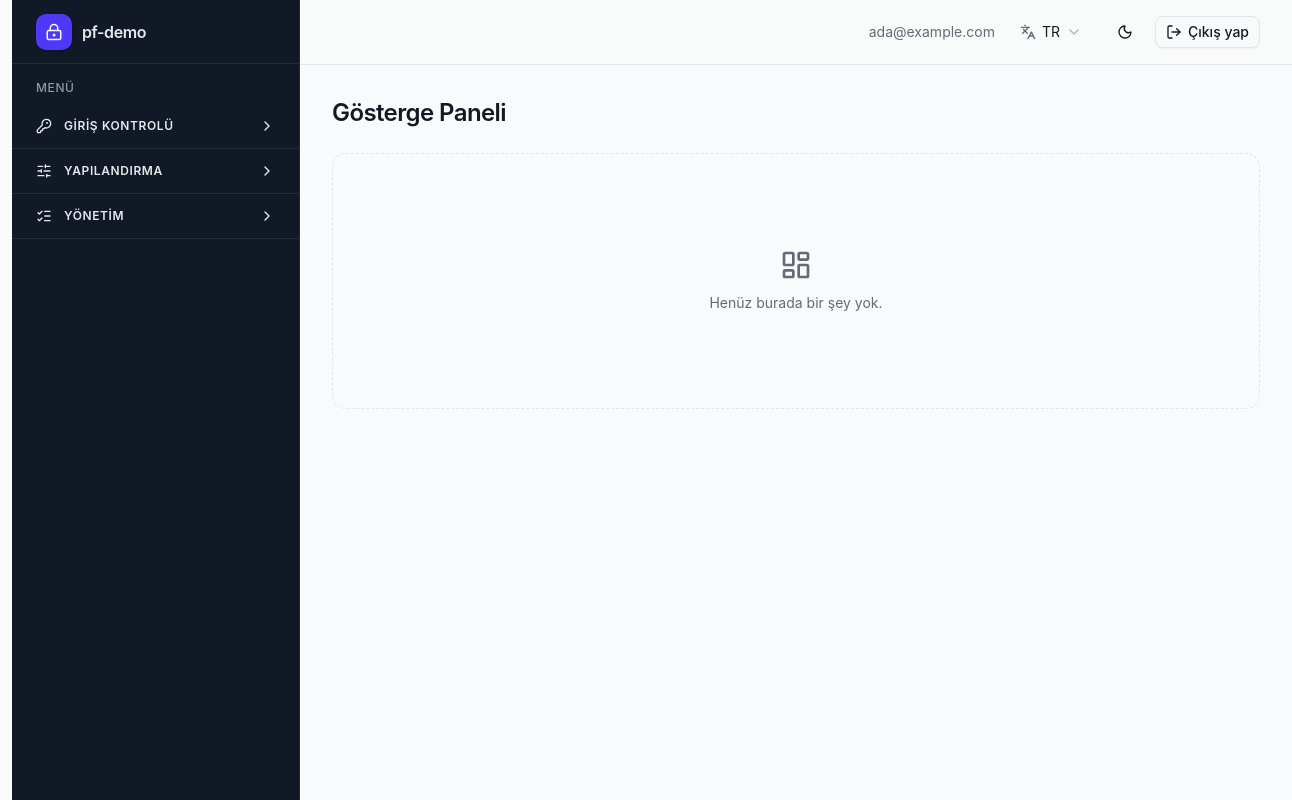
App › switches the dashboard to English and remembers it for the next visit
Click the dropdown named "Dil".
click(1051, 32)  # box [1007, 16, 1095, 48]
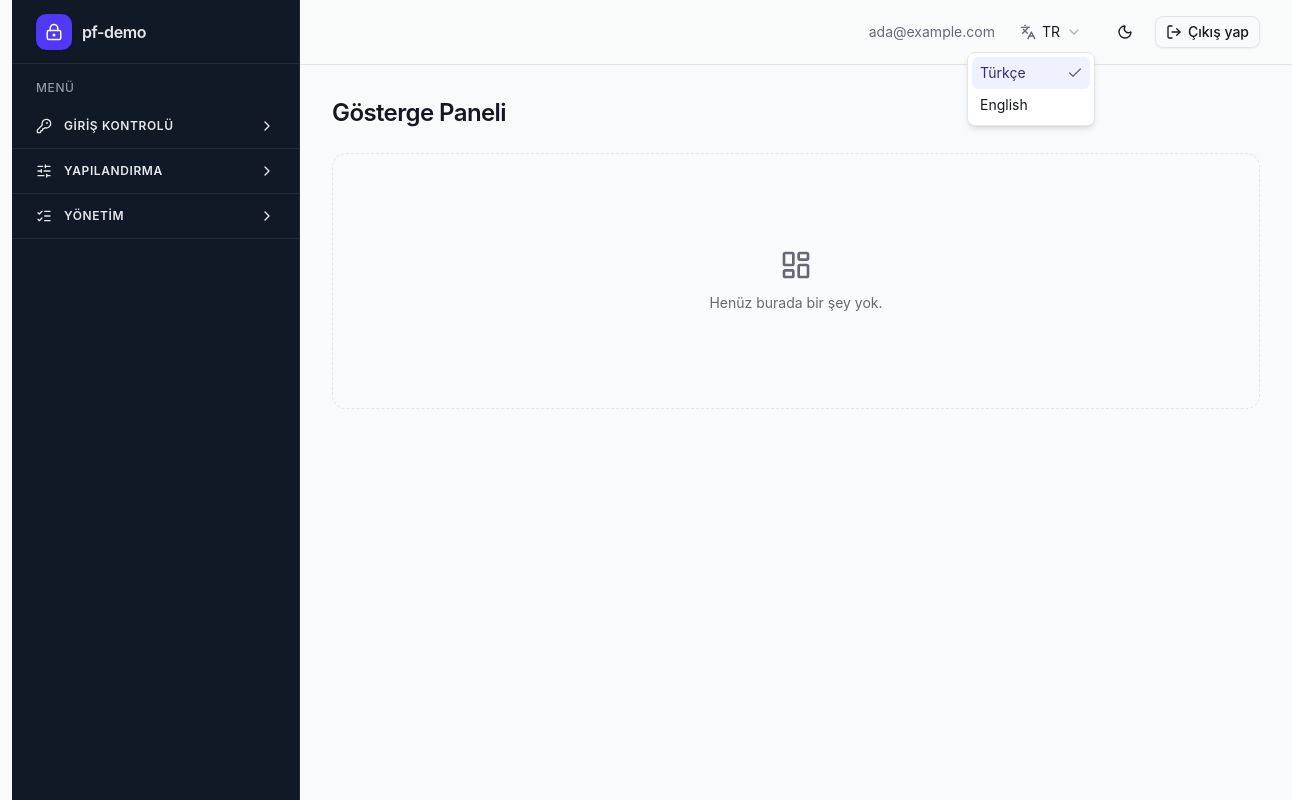
Click the option "English".
click(1004, 104)  # box [980, 96, 1028, 113]
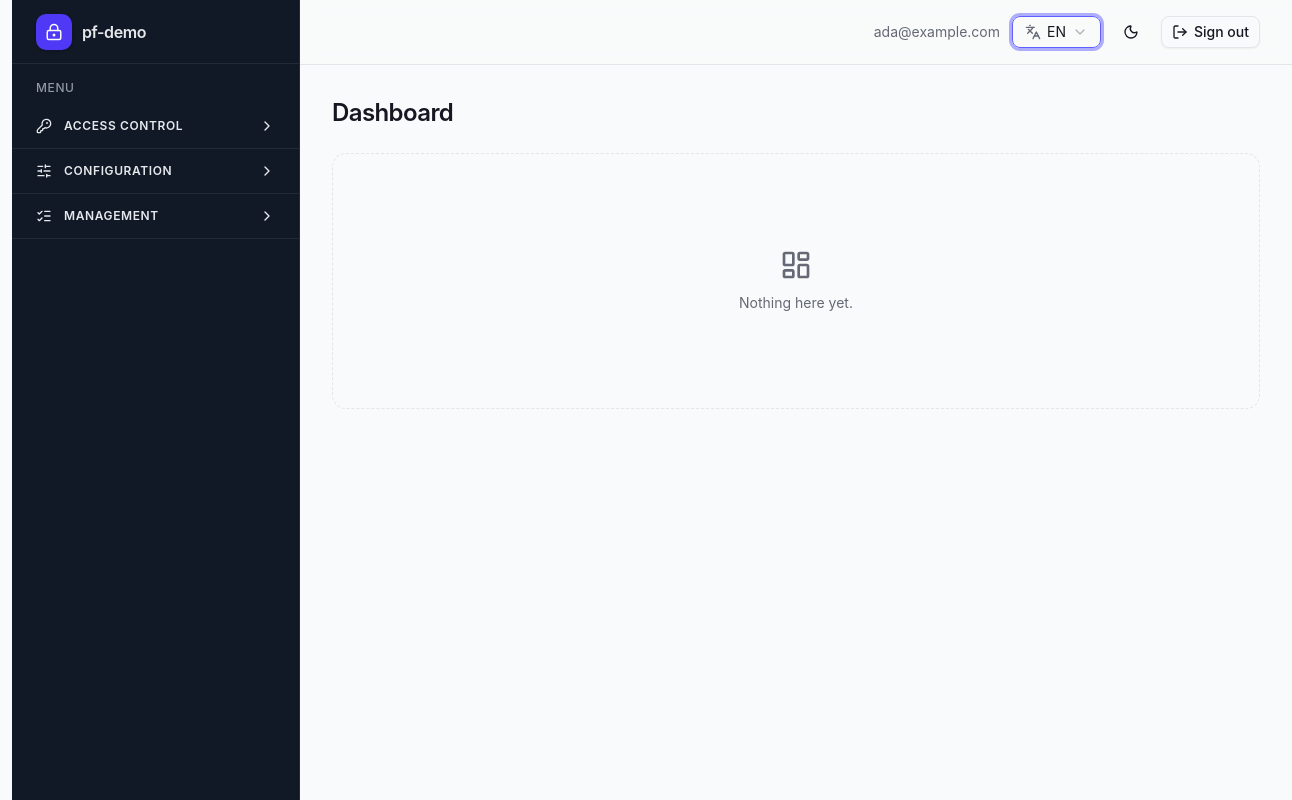
Expected: the heading "Dashboard" is shown, [332, 98, 453, 127]
Expected: the button "Access Control" is shown, [12, 104, 299, 148]
Expected: the button "Sign out" is shown, [1161, 16, 1260, 48]
